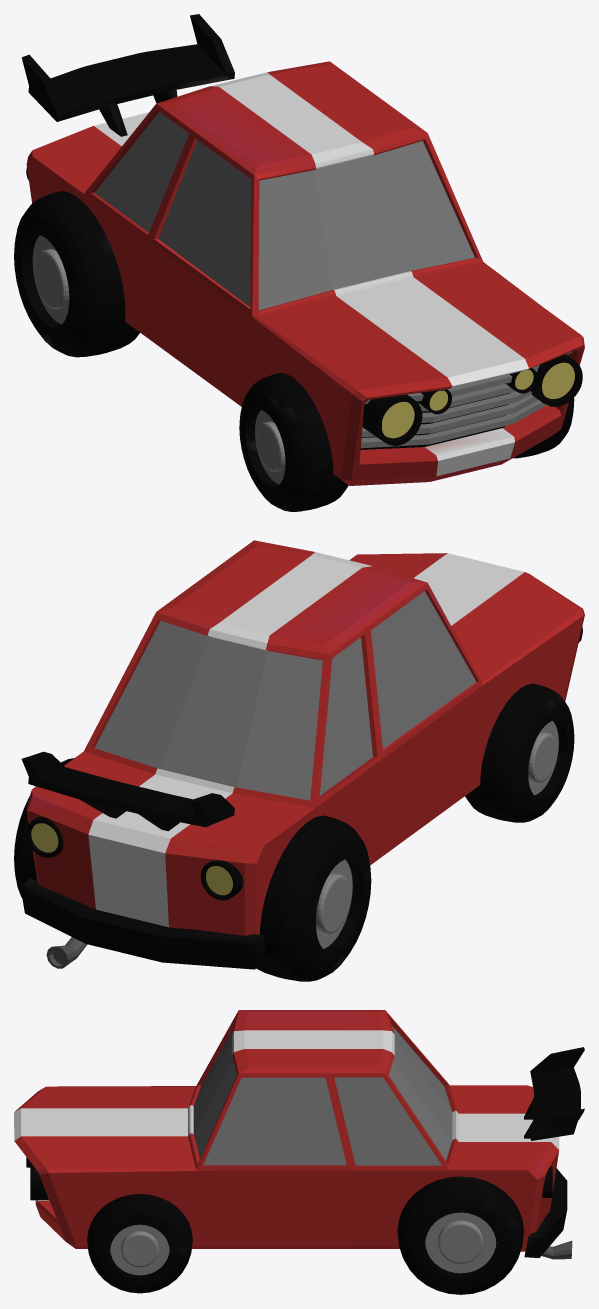
The model's file is CarroVermelho.fbx.
3 renders of one model, top to bottom at view 1: azimuth 30°, elevation 25°; view 2: azimuth 150°, elevation 25°; view 3: azimuth 270°, elevation 25°, orthographic. The views are drawn at different scales.
Visible parts, largest first — view 1: Carro.Vermelho; view 2: Carro.Vermelho; view 3: Carro.Vermelho.
Boxes of the visible parts, x1,y1,x2,y2 form: Carro.Vermelho: (14, 14, 584, 511); Carro.Vermelho: (14, 540, 584, 981); Carro.Vermelho: (14, 1010, 584, 1294).
Bounding box in the file's own units: 2.54 × 2.3 × 5.7.
